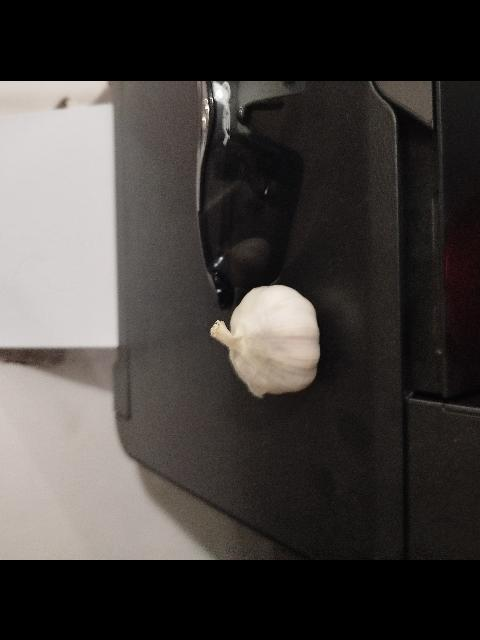garlic: (209, 283, 321, 397)
